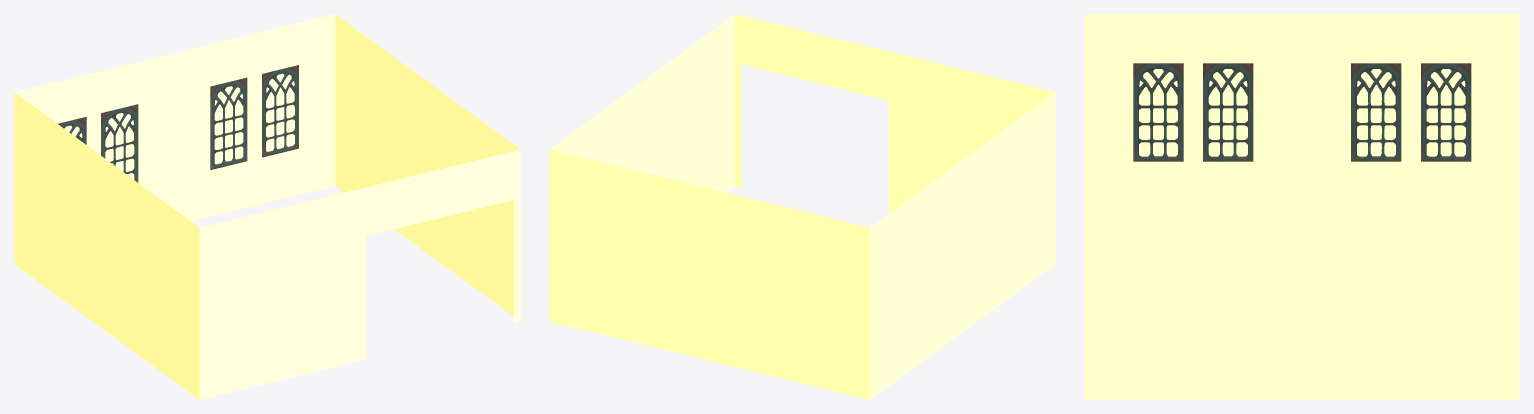
The model's file is Homeworld_Interior_Md_Room_J_Filling_01_Vo.fbx.
3 views of the same model, side by side, from view 1: azimuth 30°, elevation 25°; view 2: azimuth 150°, elevation 25°; view 3: azimuth 270°, elevation 25° (orthographic). The views are drawn at different scales.
Visible parts, largest first — view 1: Homeworld_Interior_Md_Room_J_Filling_01_Vo; view 2: Homeworld_Interior_Md_Room_J_Filling_01_Vo; view 3: Homeworld_Interior_Md_Room_J_Filling_01_Vo.
Part boxes in pixels (x1=…): Homeworld_Interior_Md_Room_J_Filling_01_Vo: x1=14, y1=14, x2=520, y2=399; Homeworld_Interior_Md_Room_J_Filling_01_Vo: x1=549, y1=14, x2=1055, y2=399; Homeworld_Interior_Md_Room_J_Filling_01_Vo: x1=1084, y1=14, x2=1519, y2=399.
Bounding box in the file's own units: 9.75 × 5 × 9.76.
